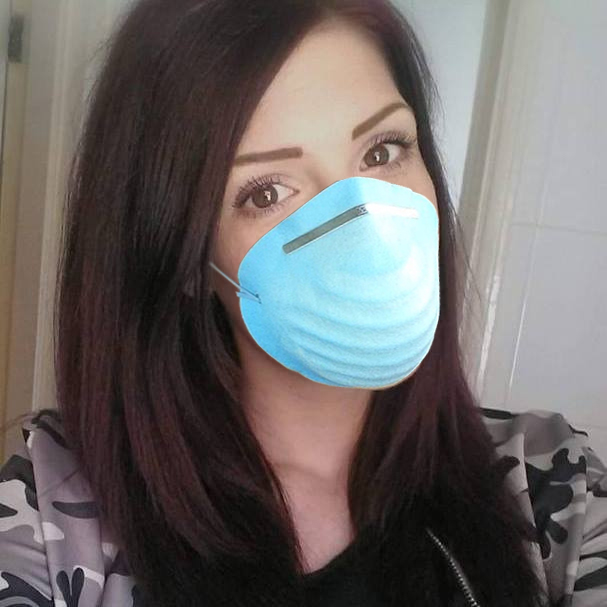mask: (244, 181, 441, 393)
